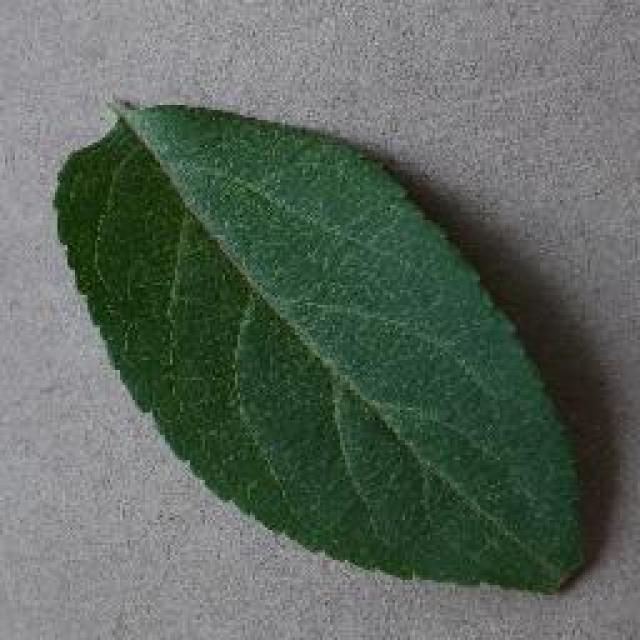apple healthy: (50, 93, 592, 595)
